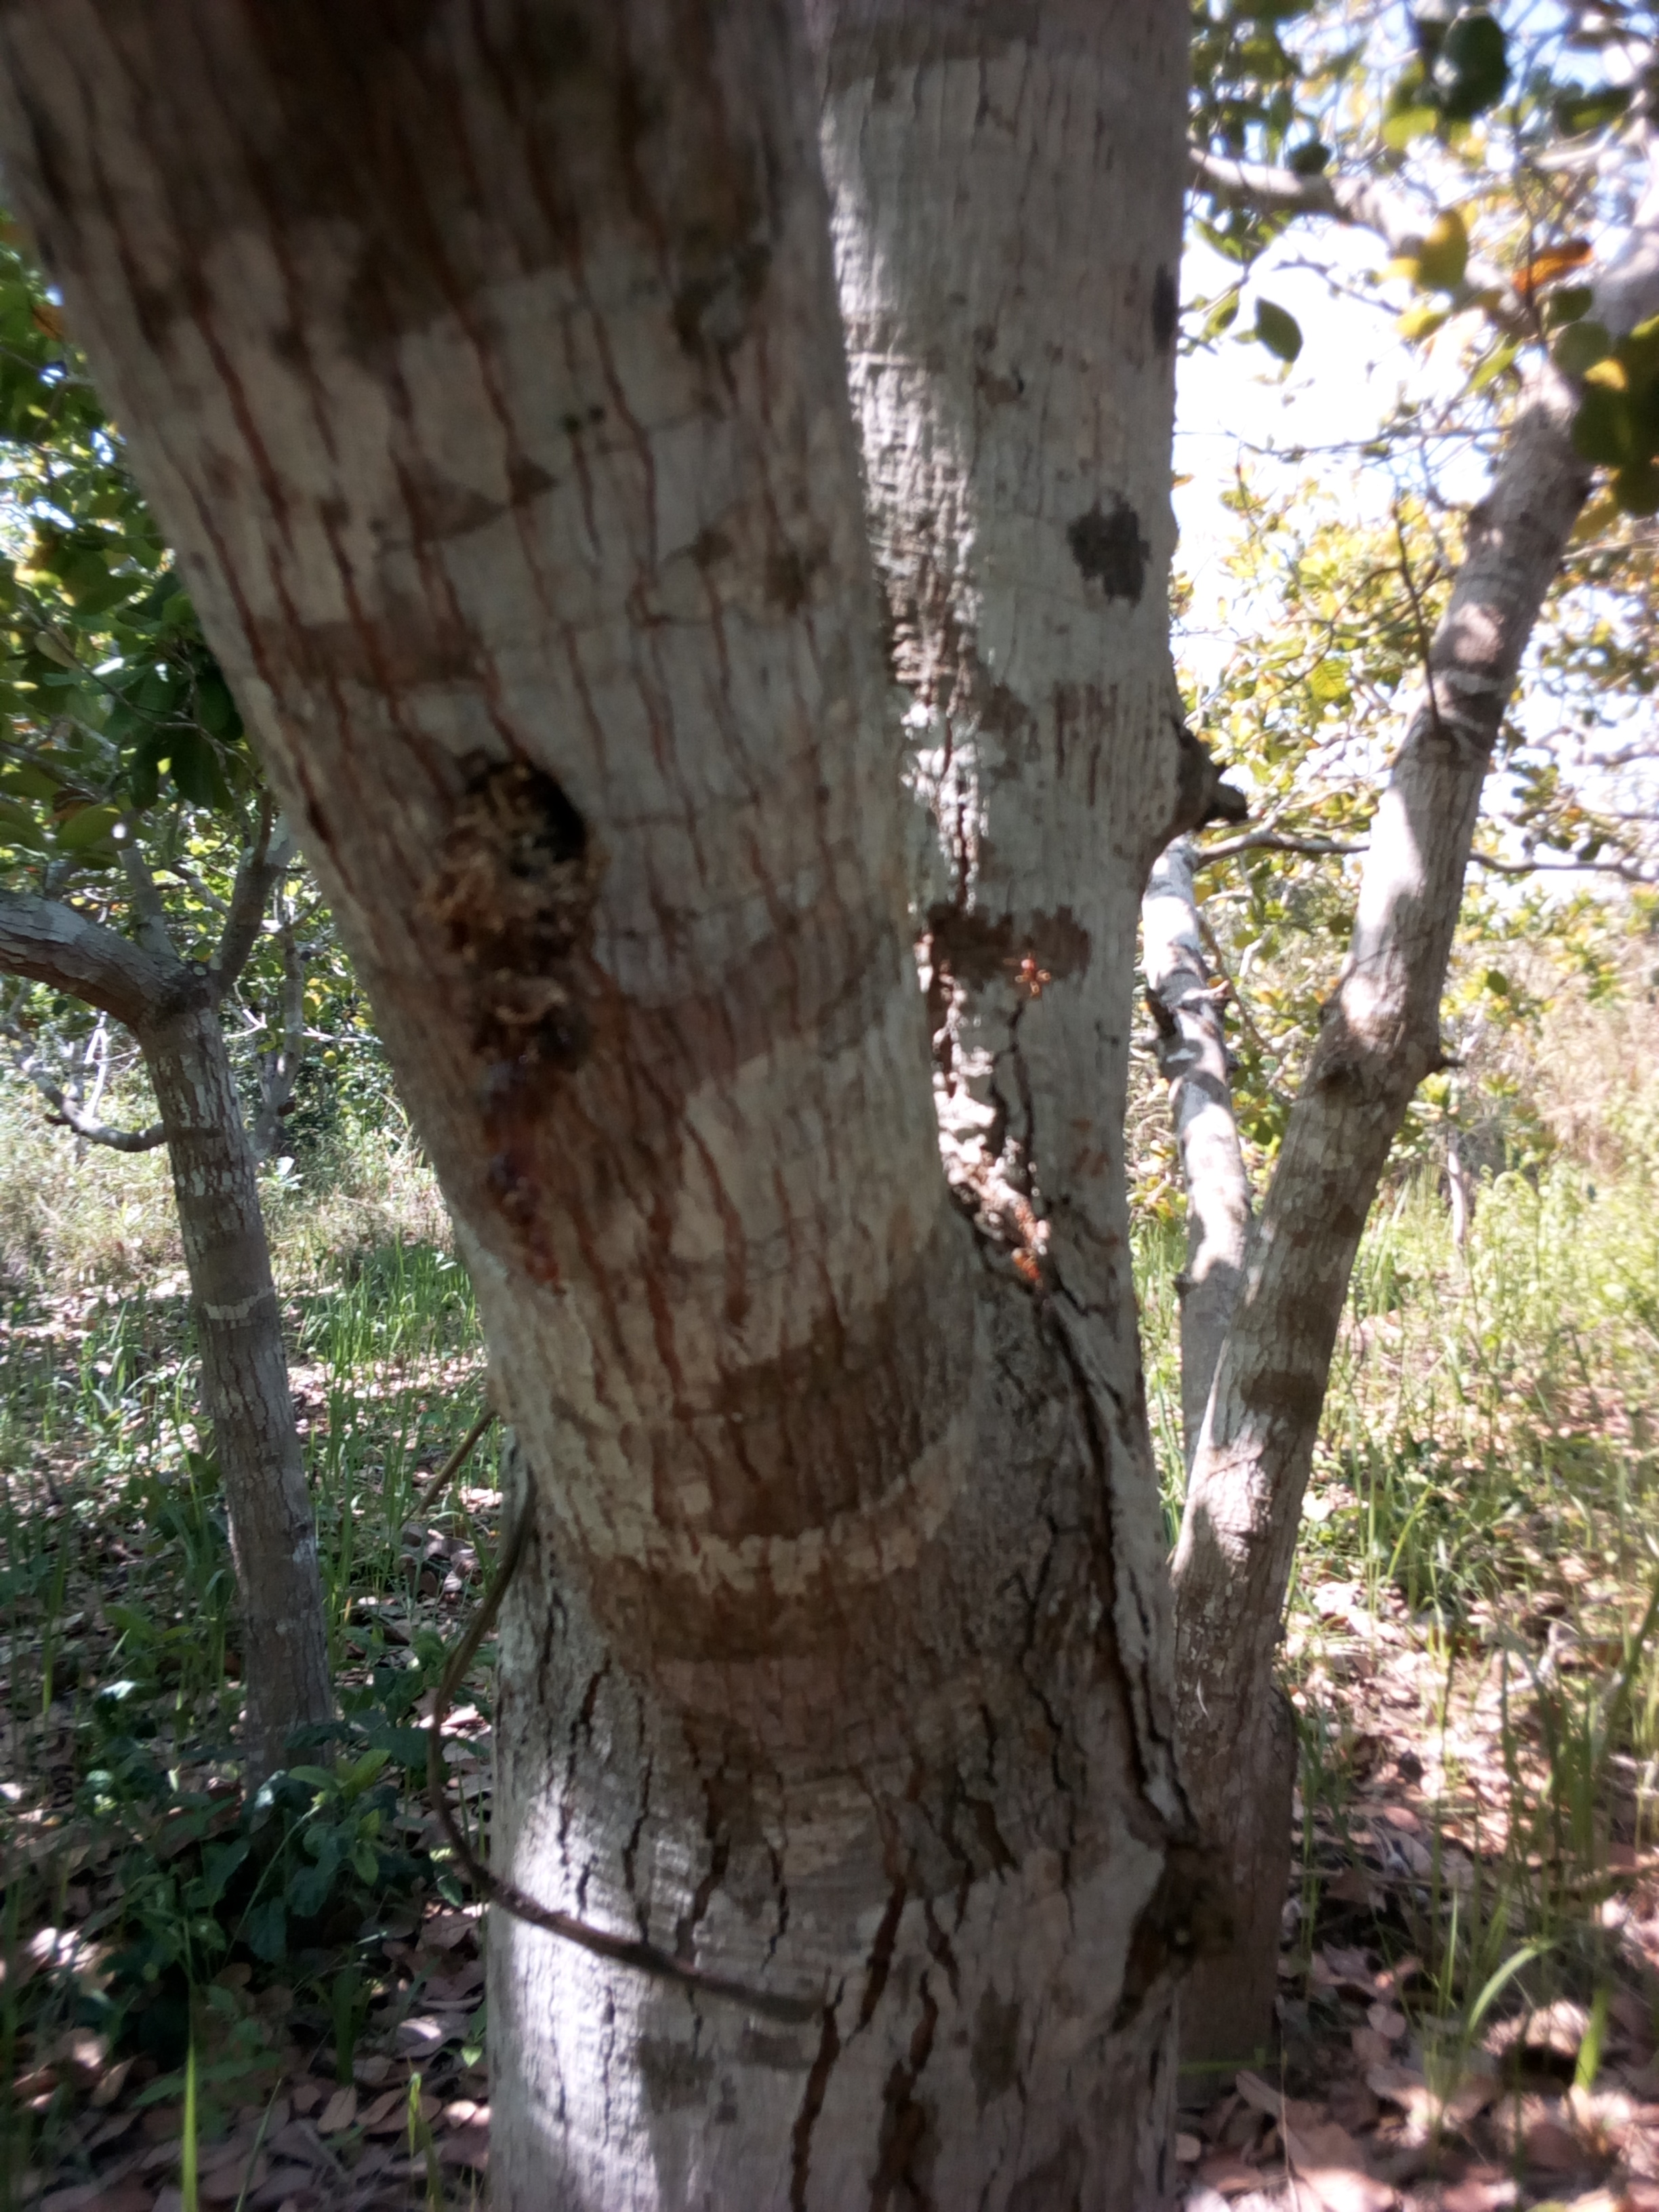Apate terebrans: (310, 730, 711, 1103)
